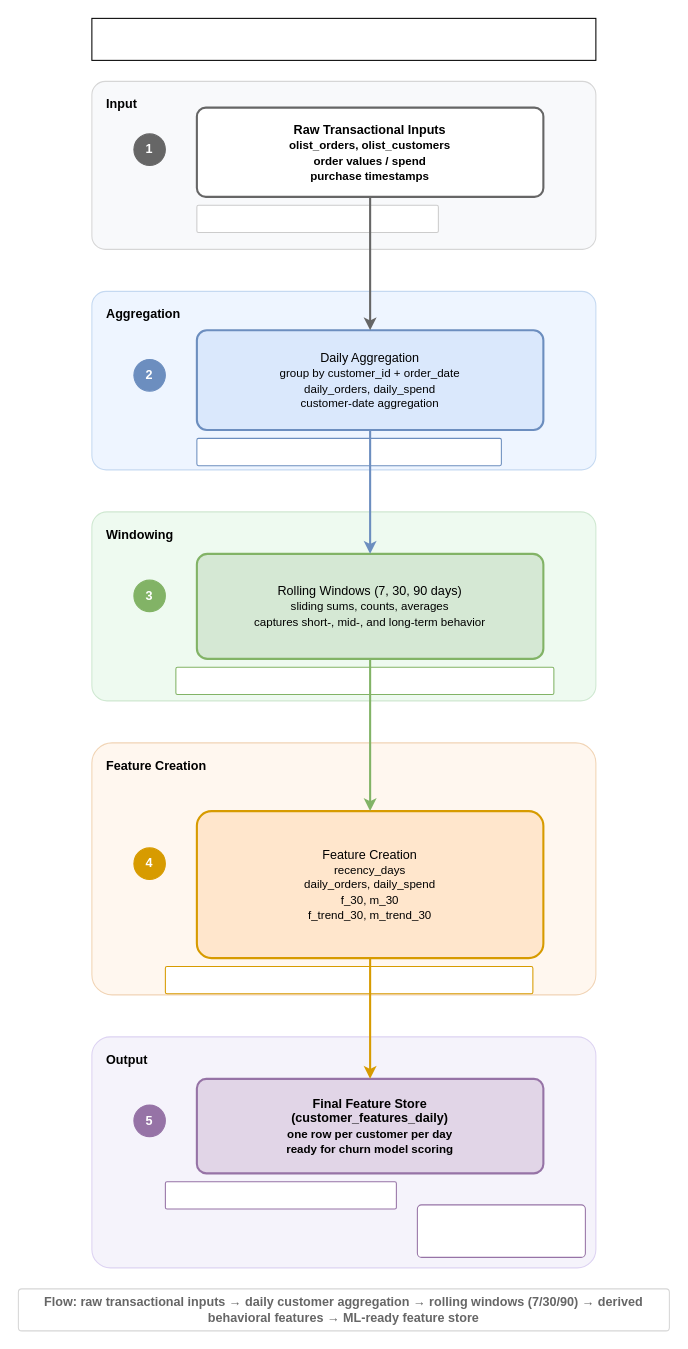
This 688x1349 diagram has some shape labels left out. Each missing label, with the centre of its shape:
"Customer Feature Engineering Pipeline" belongs at (343,38).
"Derived features: recency, frequency, monetary, and short-term trends" belongs at (348,979).
"Implementation hint: base transactional inputs" belongs at (317,218).
"Implementation hint: DATE(order_purchase_timestamp)" belongs at (348,451).
"Implementation hint: window functions over customer_id ordered by date" belongs at (364,680).
"Output table: customer_features_daily" belongs at (280,1195).
"Used for: churn model scoring segmentation decision engine" belongs at (500,1230).
